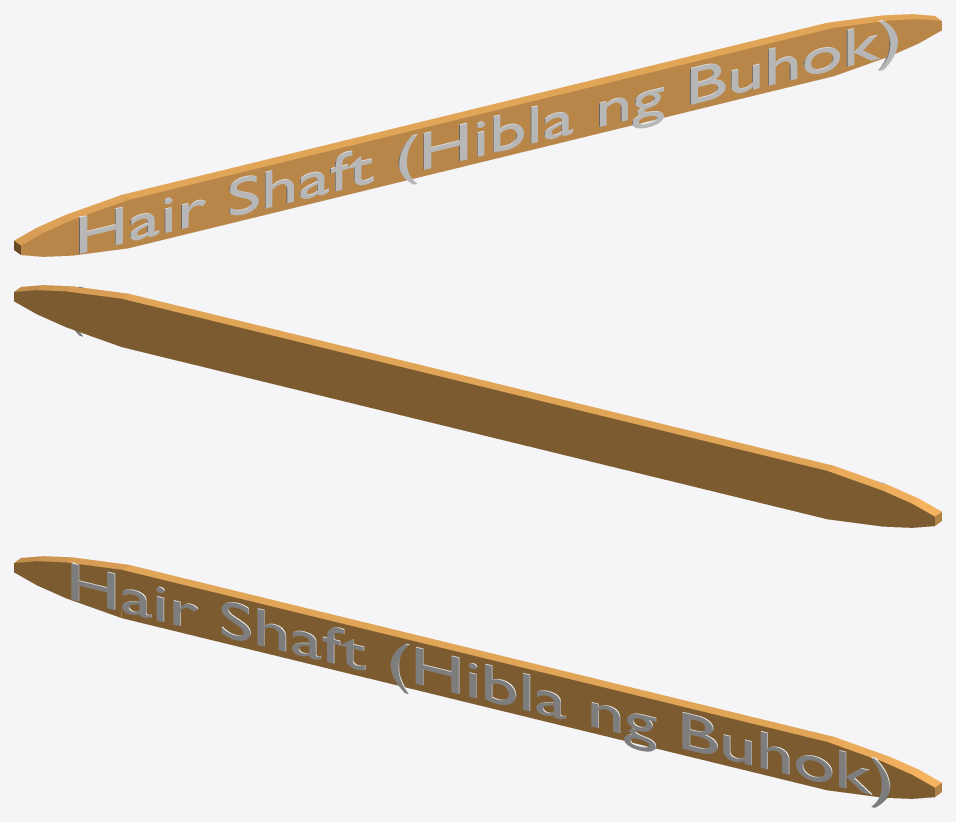
File: txtHairShaft.fbx
The picture shows the model from 3 angles, top to bottom: view 1: azimuth 30°, elevation 25°; view 2: azimuth 150°, elevation 25°; view 3: azimuth 330°, elevation 25°; orthographic projection.
Visible parts, largest first — view 1: TagContainer.071, Text.072; view 2: TagContainer.071; view 3: TagContainer.071, Text.072.
Boxes of the visible parts, x1,y1,x2,y2 form: TagContainer.071: [14, 14, 941, 256]; Text.072: [78, 20, 897, 253]; TagContainer.071: [14, 285, 941, 527]; TagContainer.071: [14, 556, 941, 798]; Text.072: [71, 562, 890, 807].
Bounding box in the file's own units: 822 × 45.66 × 11.92.
